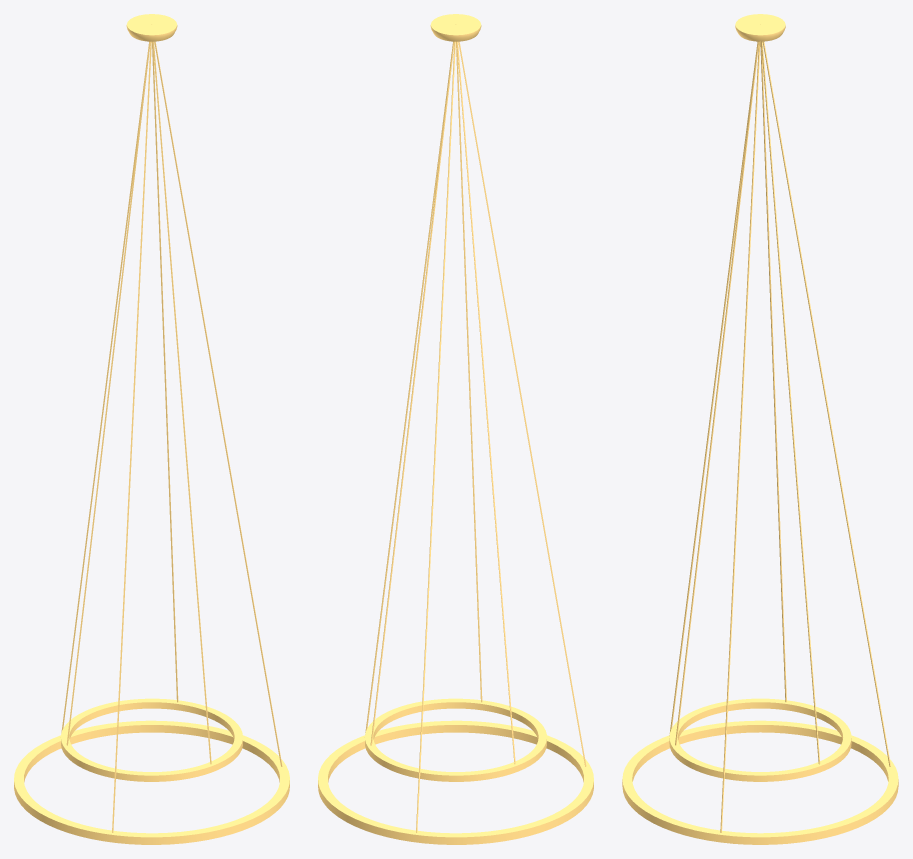
Rendered from lb5_pendant.glb.
3 renders of one model, left to right at view 1: azimuth 30°, elevation 25°; view 2: azimuth 150°, elevation 25°; view 3: azimuth 270°, elevation 25°, orthographic.
Visible parts, largest first — view 1: lb5_pendant; view 2: lb5_pendant; view 3: lb5_pendant.
Boxes of the visible parts, x1,y1,x2,y2 form: lb5_pendant: [14, 14, 289, 844]; lb5_pendant: [318, 14, 593, 844]; lb5_pendant: [622, 14, 898, 844].
Size of the model in its own units: 1.97 by 6 by 1.97.
